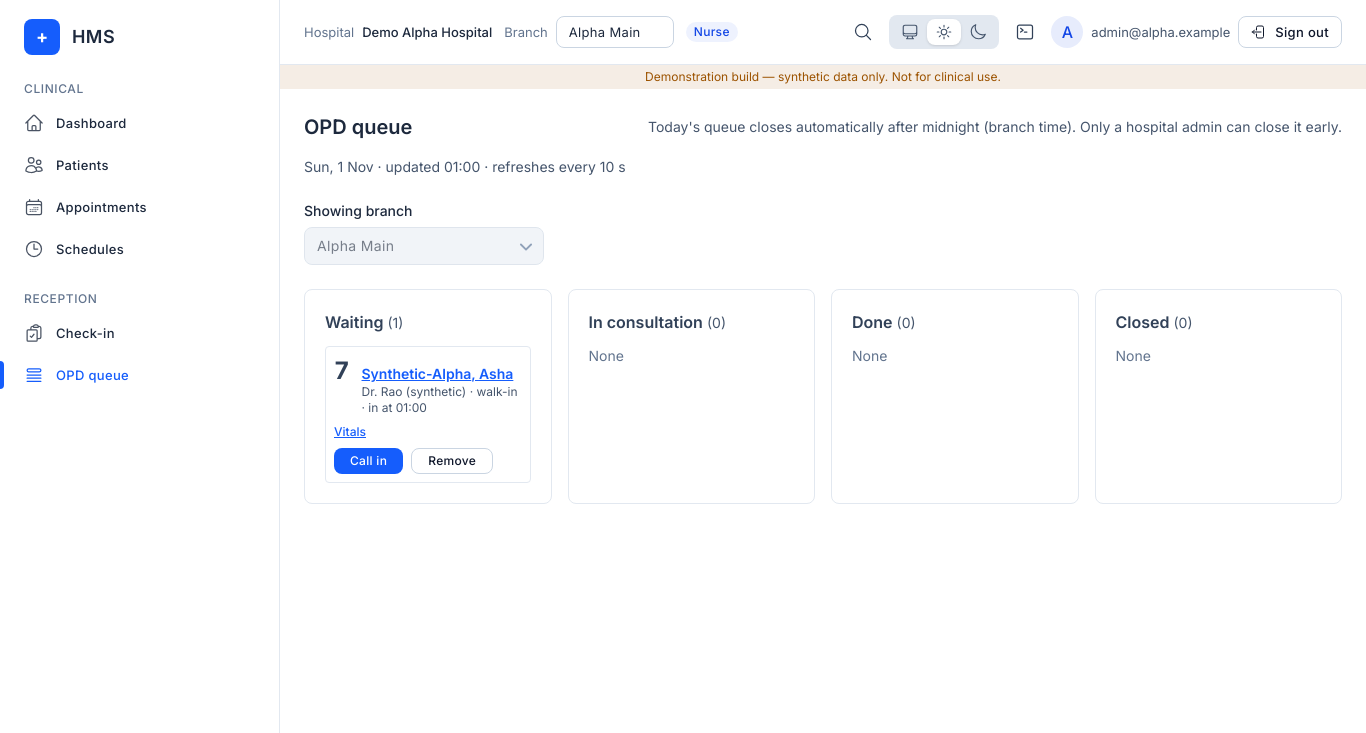
Test: vitals from the queue › a nurse records vitals; invalid values are never sent; out-of-range values are flagged
Step 1. Click the button with aria-label "Vitals for token 7" → (350, 432), box x1=334 y1=424 x2=366 y2=440
(page scrolled)
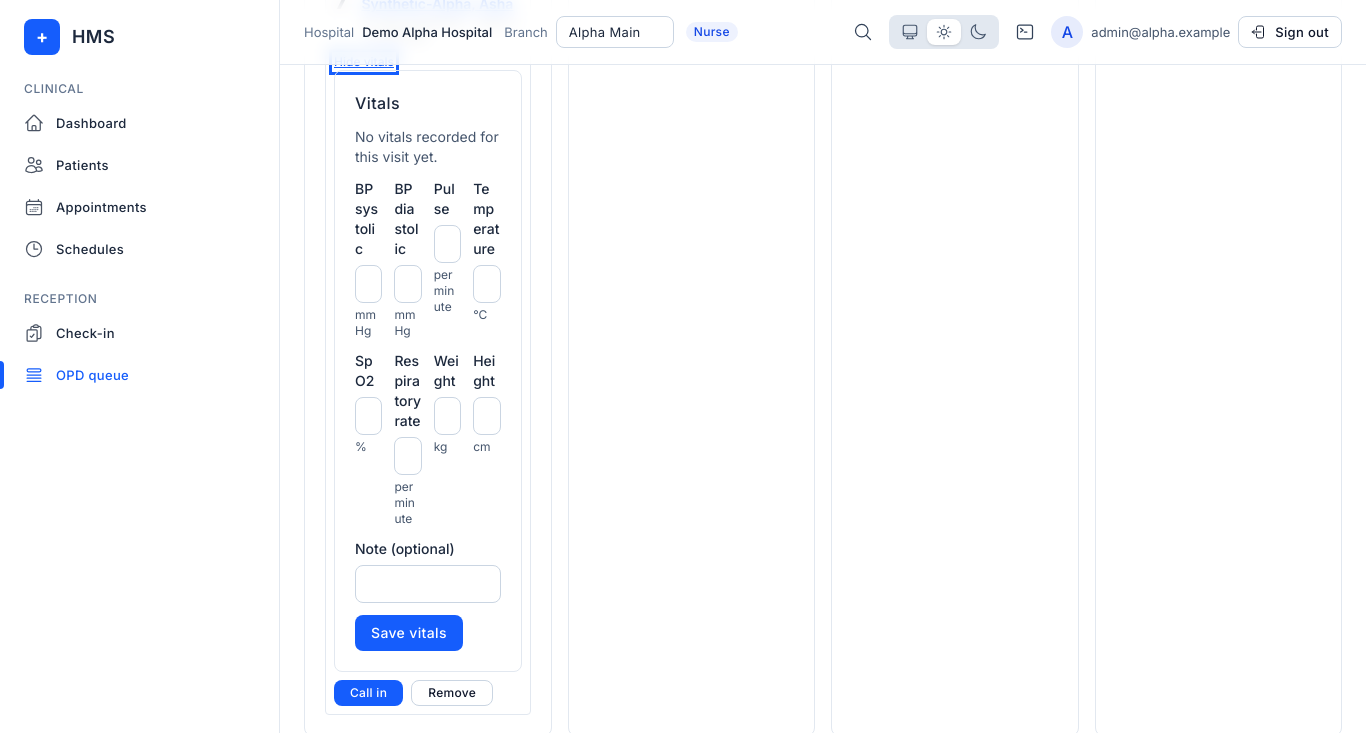
expect the text "No vitals recorded for this visit yet." is shown: met, box x1=355 y1=127 x2=500 y2=167
Step 2. Type "101" into the number field labelled "SpO2" → (369, 416), box x1=355 y1=397 x2=382 y2=435
Step 3. Click the button with test id "vitals-save" → (409, 633), box x1=355 y1=615 x2=463 y2=651
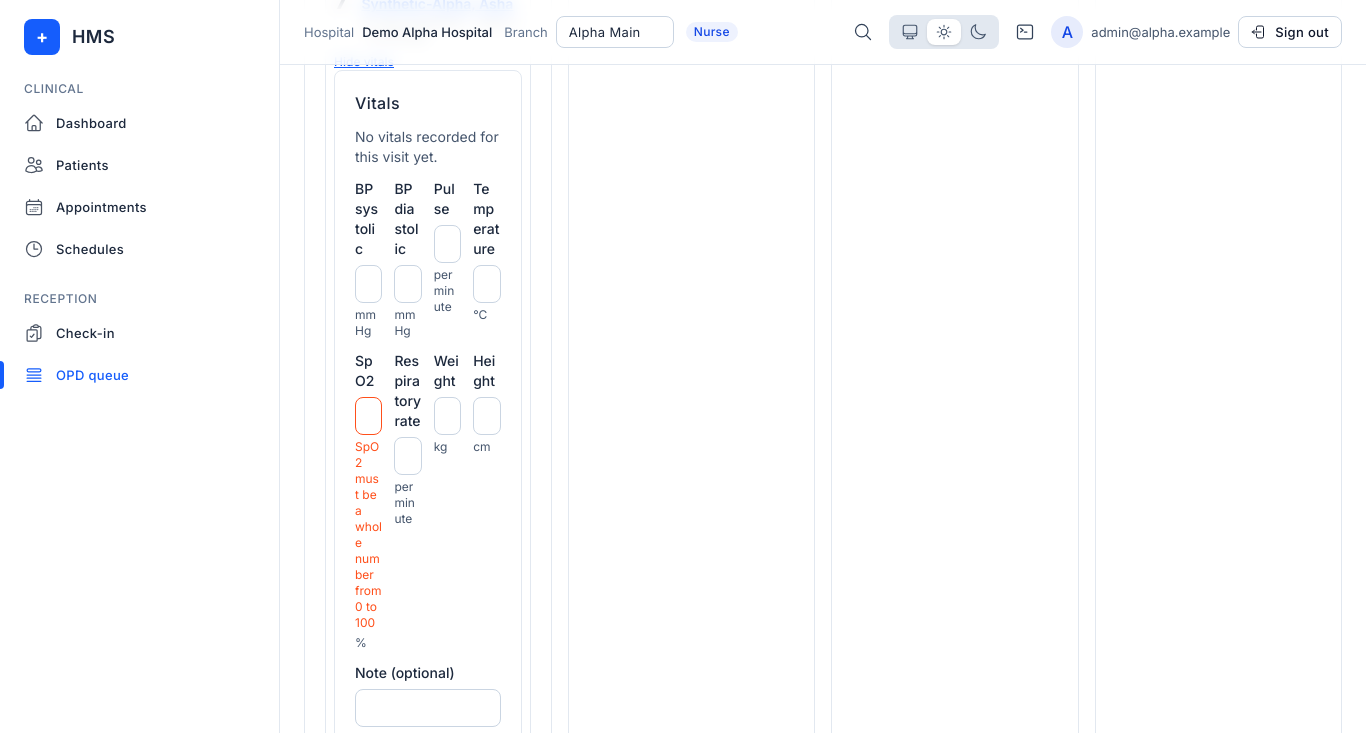
expect the text "SpO2 must be a whole number from 0 to 100" is shown: met, box x1=355 y1=439 x2=382 y2=630
Step 4. Clear the number field labelled "SpO2" → (369, 416), box x1=355 y1=397 x2=382 y2=435
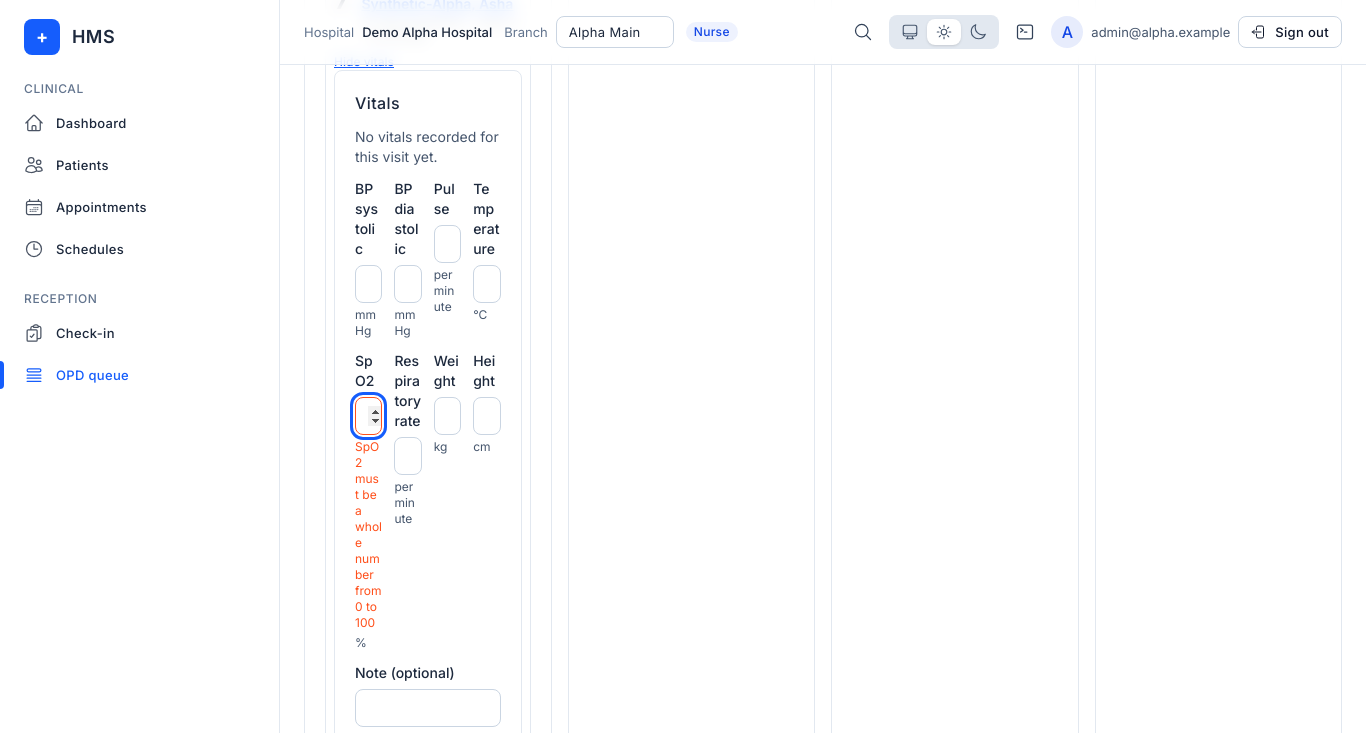
Step 5. Type "150" into the number field labelled "BP systolic" → (369, 284), box x1=355 y1=265 x2=382 y2=303
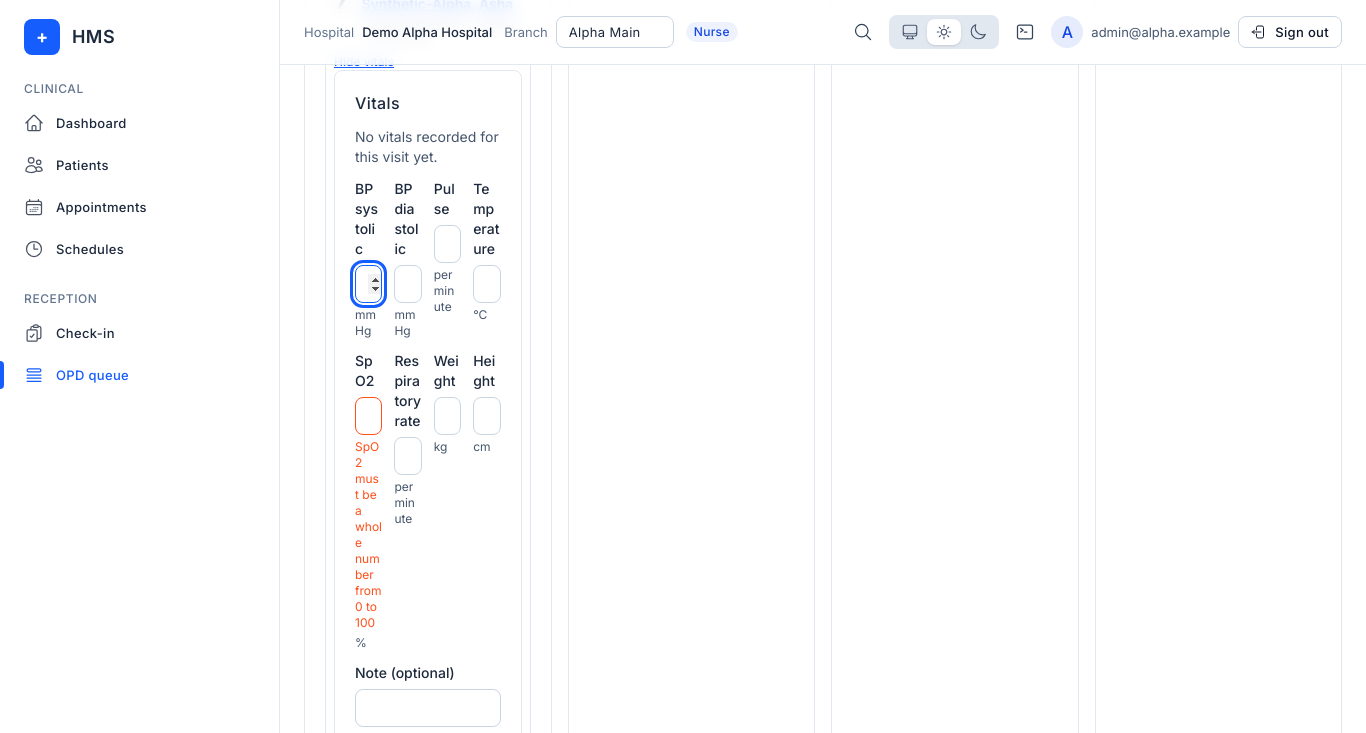
Step 6. Type "95" into the number field labelled "BP diastolic" → (408, 284), box x1=394 y1=265 x2=422 y2=303
(page scrolled)
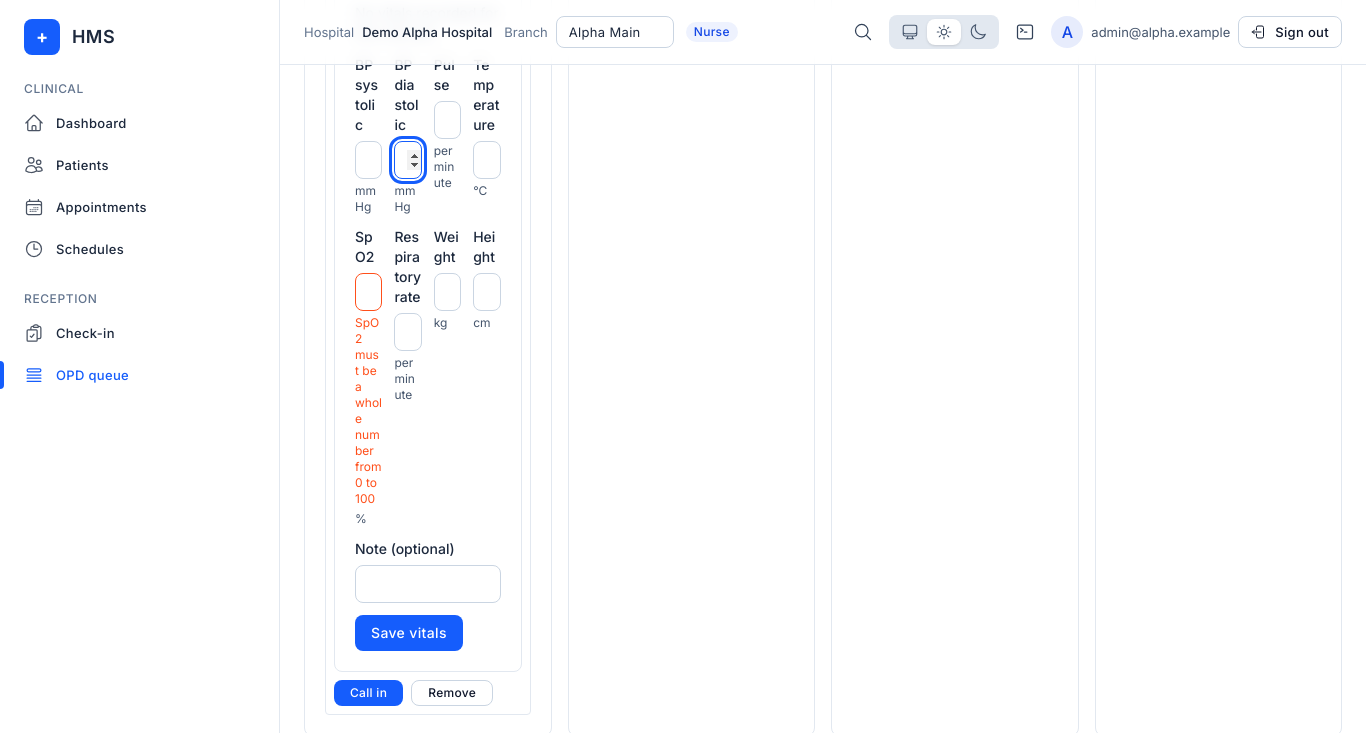
Step 7. Click the button with test id "vitals-save" → (409, 633), box x1=355 y1=615 x2=463 y2=651
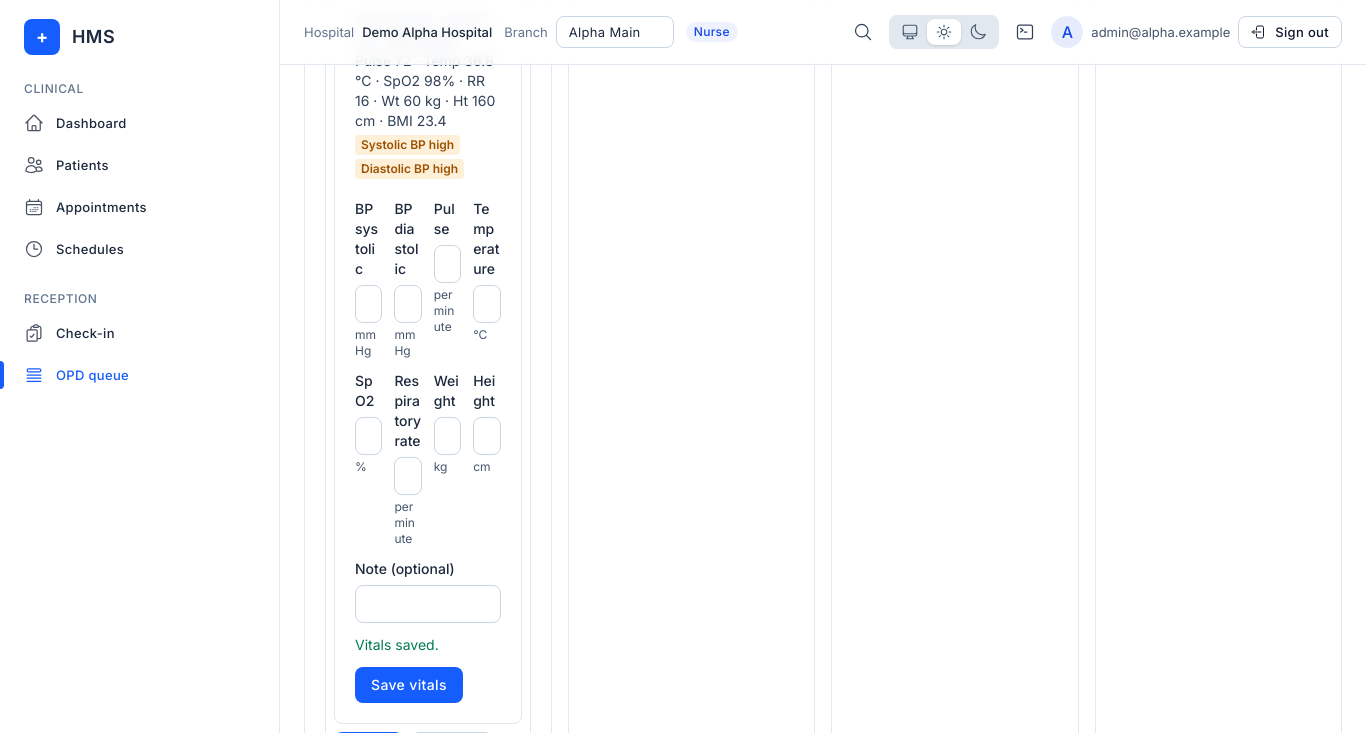
expect the message "Vitals saved." is shown: met, box x1=355 y1=636 x2=439 y2=653
expect the list item with test id "vitals-flag-systolic" reads "Systolic BP high": met, box x1=361 y1=137 x2=454 y2=152
